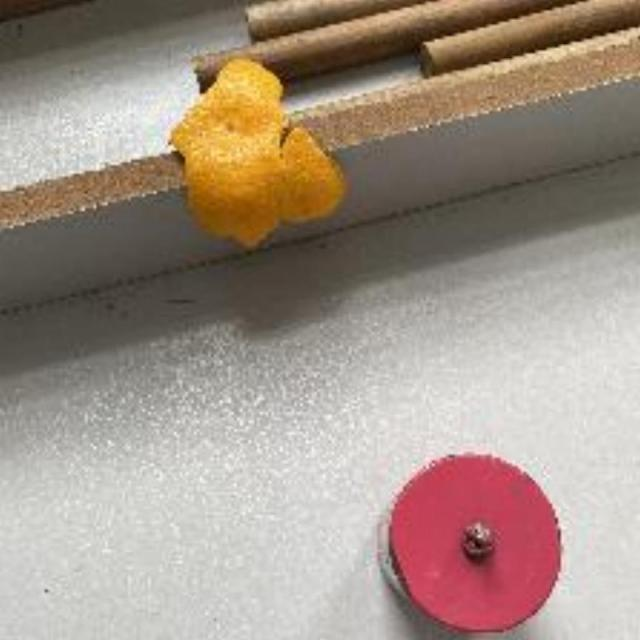orange-peel: (169, 56, 353, 254)
